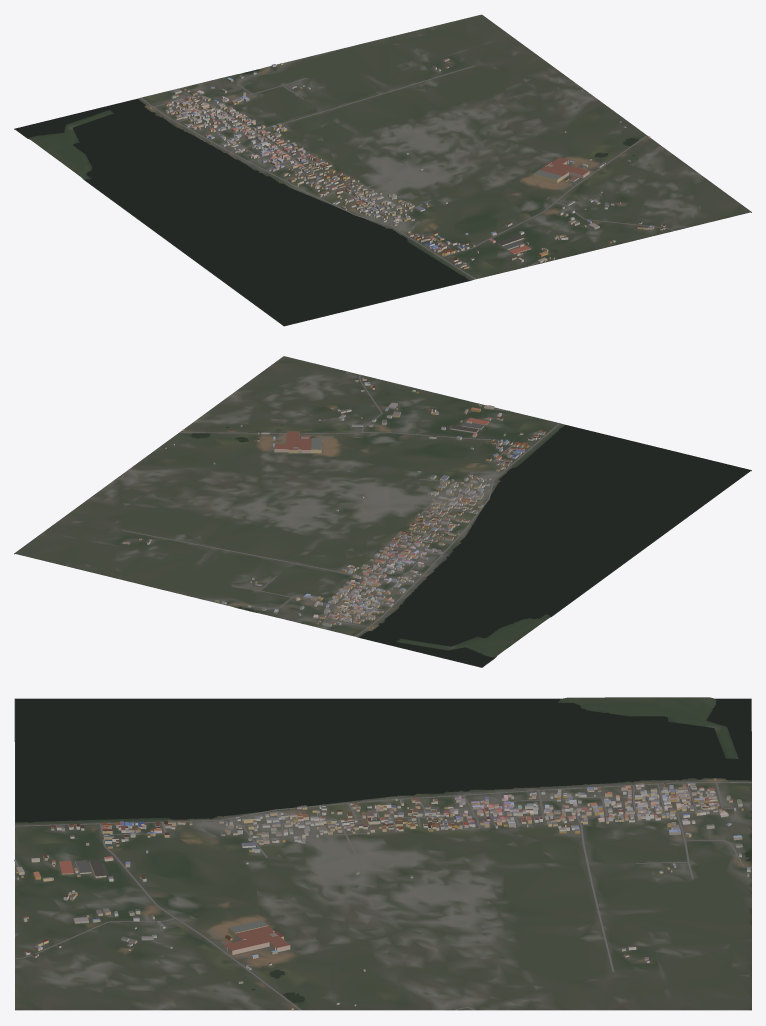
The picture shows the model from 3 angles, top to bottom: view 1: azimuth 30°, elevation 25°; view 2: azimuth 150°, elevation 25°; view 3: azimuth 270°, elevation 25°; orthographic projection. The views are drawn at different scales.
Parts seen in each view (by area): view 1: ground, water, buildings, roads; view 2: ground, water, buildings, roads; view 3: ground, water, buildings, roads.
Part boxes in pixels (x1,y1,x2,y2): ground: (14, 14, 751, 326); water: (15, 69, 638, 325); buildings: (149, 58, 665, 269); roads: (140, 65, 674, 279); ground: (14, 356, 751, 667); water: (191, 425, 750, 667); buildings: (122, 377, 545, 628); roads: (116, 374, 559, 636); ground: (14, 697, 751, 1010); water: (15, 698, 751, 1003); buildings: (15, 778, 750, 1009); roads: (14, 782, 751, 1010).
Size of the model in its own units: 1405 by 14.5 by 1404.
